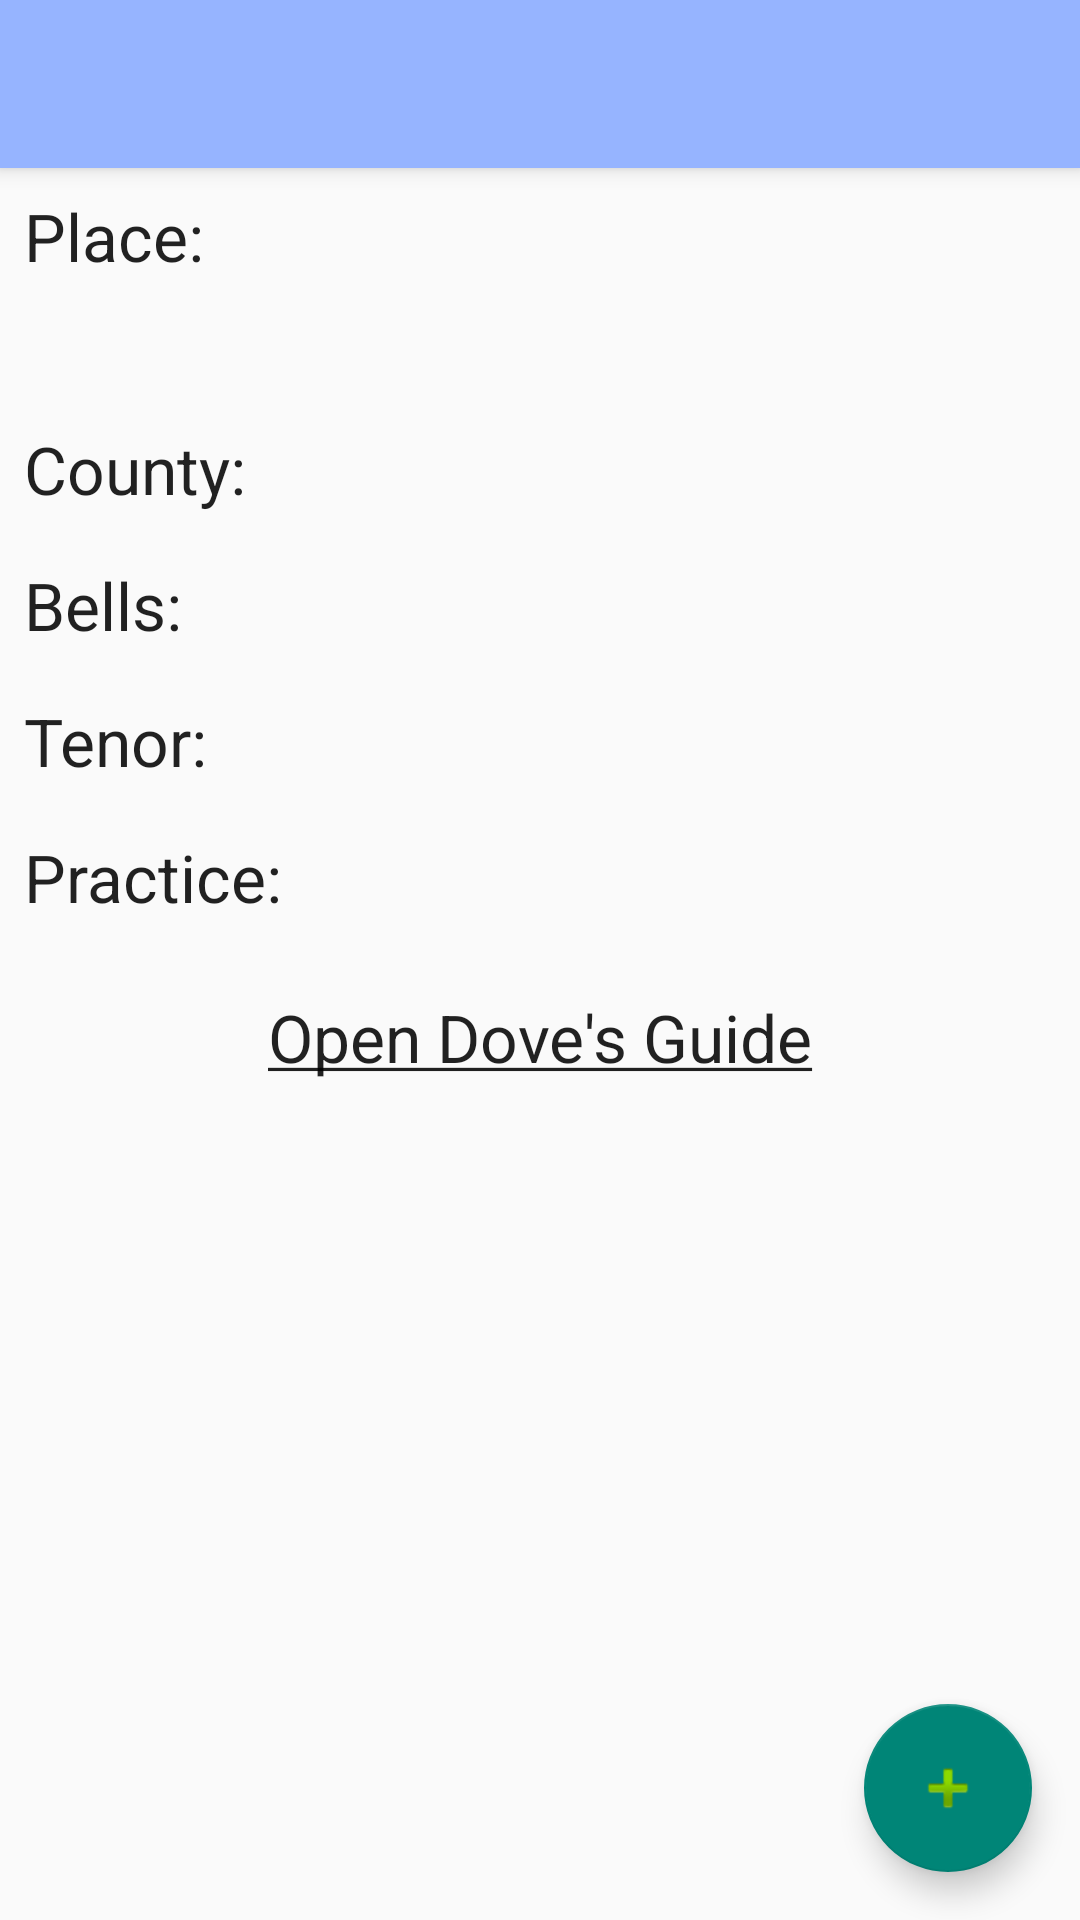

Where to tap for icons on this 1080px×1920px app screen, as [x,y]:
Add visit: [948,1788]
